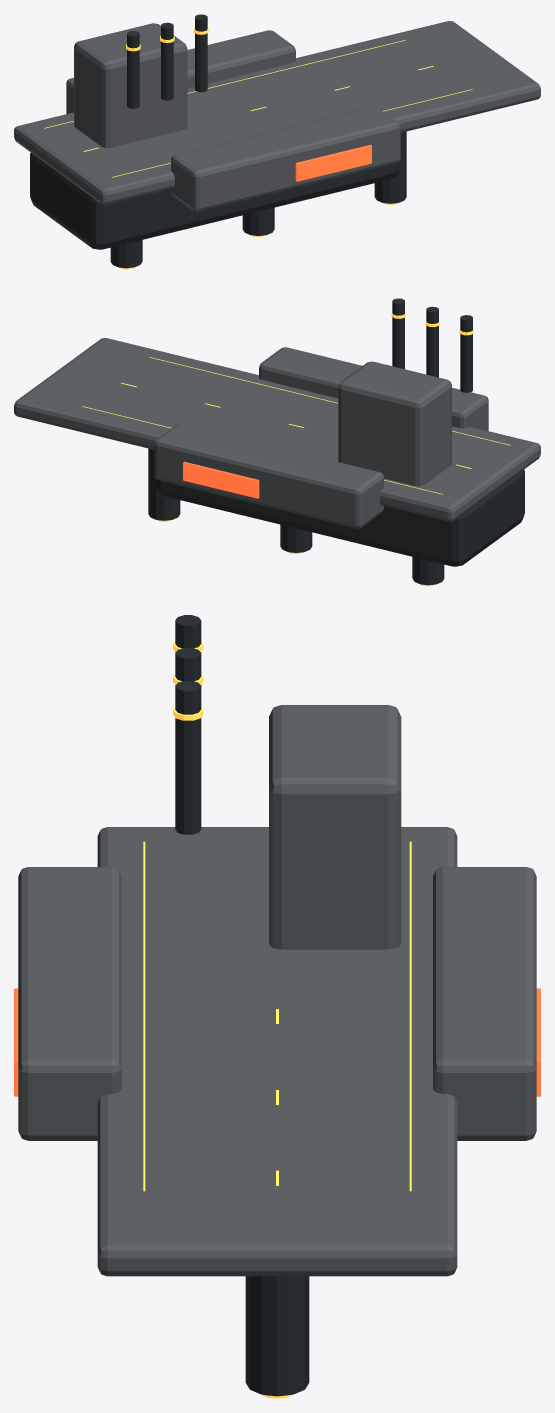
Rendered from inferno-ozone-base-v1-lod1.glb.
3 renders of one model, top to bottom at view 1: azimuth 30°, elevation 25°; view 2: azimuth 150°, elevation 25°; view 3: azimuth 270°, elevation 25°, orthographic. The views are drawn at different scales.
Parts seen in each view (by area): view 1: inferno_ozone_base__lod1__Inferno aerospace shell, inferno_ozone_base__lod1__Inferno structural frame, inferno_ozone_base__lod1__Inferno recessed glazing, inferno_ozone_base__lod1__Inferno emissive guidance; view 2: inferno_ozone_base__lod1__Inferno aerospace shell, inferno_ozone_base__lod1__Inferno structural frame, inferno_ozone_base__lod1__Inferno recessed glazing, inferno_ozone_base__lod1__Inferno emissive guidance; view 3: inferno_ozone_base__lod1__Inferno aerospace shell, inferno_ozone_base__lod1__Inferno structural frame, inferno_ozone_base__lod1__Inferno emissive guidance, inferno_ozone_base__lod1__Inferno recessed glazing.
Boxes of the visible parts, box(x1,y1,x2,y2) form: inferno_ozone_base__lod1__Inferno aerospace shell: box(14, 21, 540, 211); inferno_ozone_base__lod1__Inferno structural frame: box(30, 14, 406, 268); inferno_ozone_base__lod1__Inferno recessed glazing: box(295, 144, 371, 181); inferno_ozone_base__lod1__Inferno emissive guidance: box(44, 27, 472, 269); inferno_ozone_base__lod1__Inferno aerospace shell: box(14, 338, 540, 528); inferno_ozone_base__lod1__Inferno structural frame: box(148, 298, 524, 585); inferno_ozone_base__lod1__Inferno recessed glazing: box(183, 461, 259, 498); inferno_ozone_base__lod1__Inferno emissive guidance: box(82, 311, 510, 586); inferno_ozone_base__lod1__Inferno aerospace shell: box(18, 705, 536, 1276); inferno_ozone_base__lod1__Inferno structural frame: box(175, 615, 309, 1396); inferno_ozone_base__lod1__Inferno emissive guidance: box(143, 641, 411, 1398); inferno_ozone_base__lod1__Inferno recessed glazing: box(14, 988, 540, 1096).
Bounding box in the file's own units: 700 × 384 × 366.
